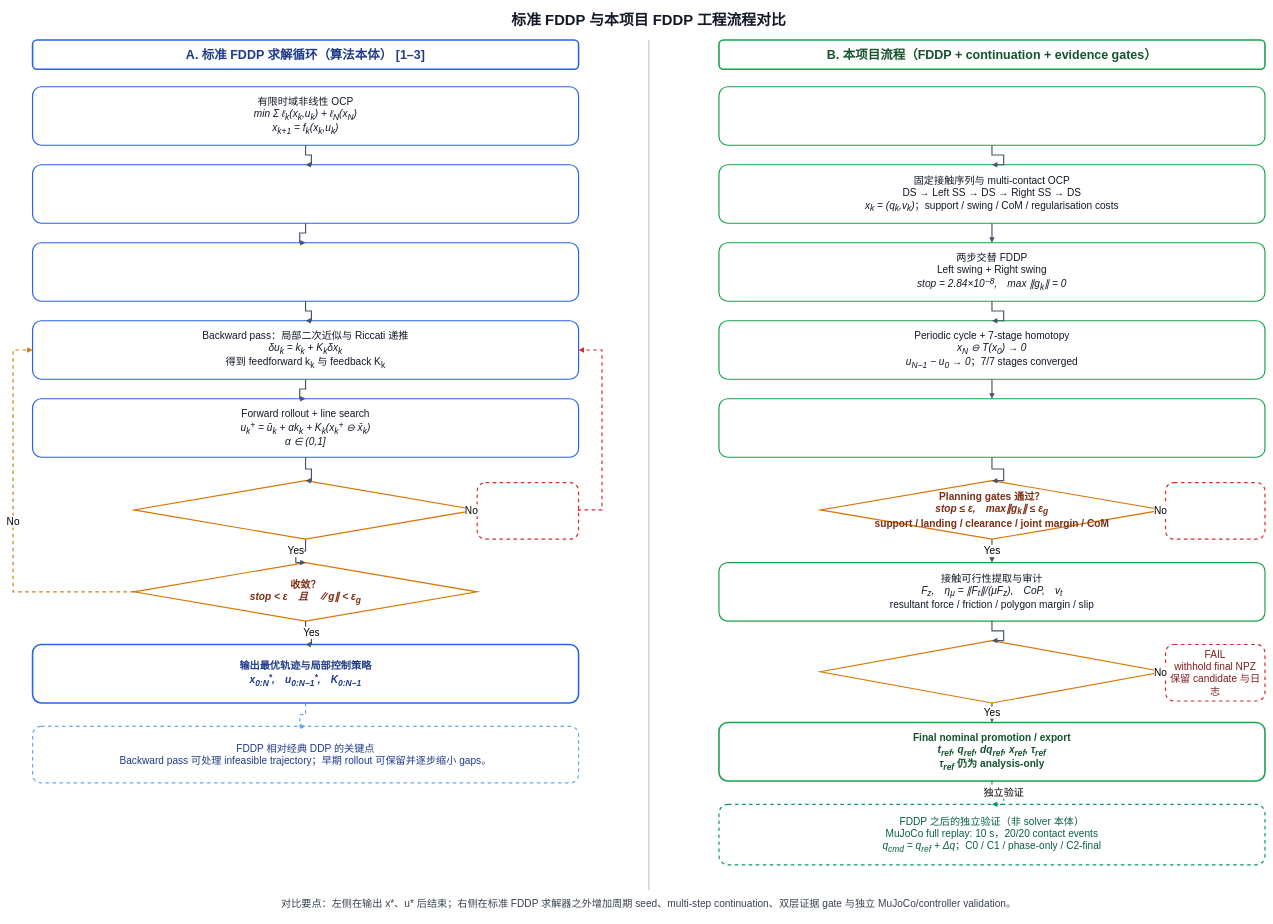
This 1273x924 diagram has some shape labels left out. Here are the shapes that lost their labels. From the top down, the centre of each, then its label:
At point (991, 116): "模型与执行器边界 URDF → Pinocchio → Crocoddyl n q = 13, n v = 12, τ ref : analysis only".
At point (305, 194): "初始化 nominal trajectory x̄ 0:N , ū 0:N−1 FDDP 允许初始状态—控制轨迹暂时 infeasible".
At point (305, 272): "计算 cost 与 shooting gaps J(x̄,ū), g k+1 = f k (x̄ k ,ū k ) ⊖ x̄ k+1".
At point (991, 428): "多步 continuation 2 → 4 → 6 → 10 steps Final: N = 1000, Δt = 0.01 s, T = 10 s".
At point (305, 510): "候选轨迹可接受？ ΔJ < 0 且 ∥g + ∥ ≤ ∥ḡ∥".
At point (527, 511): "拒绝候选 α ↓， μ ↑ 重新 backward pass".
At point (1215, 511): "FAIL 保留 diagnostics 不进入 final promotion".
At point (992, 671): "Contact gates 通过？ F z ≥ −10 −5 N, η μ ≤ 0.90 margin CoP ≥ 2 mm, v t ≤ 10 −3 m/s".
